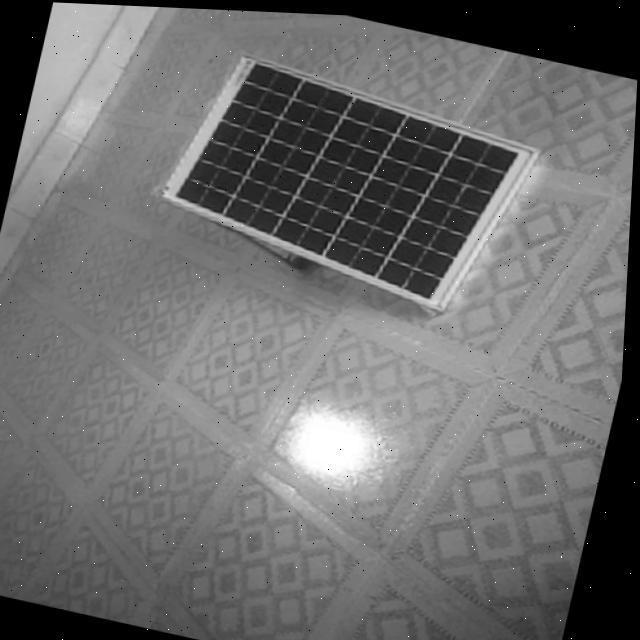Normal Solar Panel: (146, 39, 548, 318)
